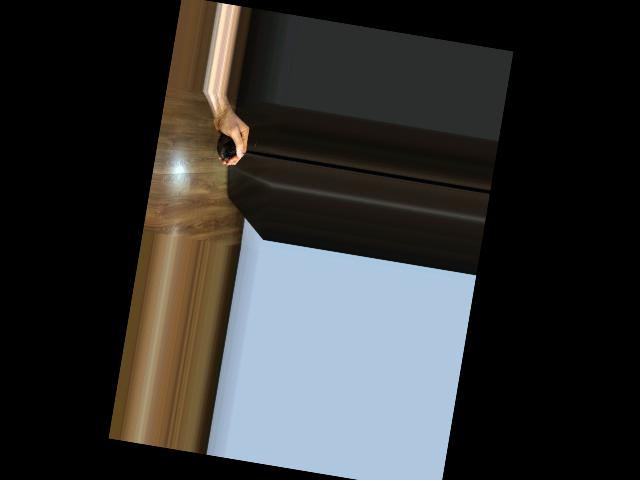beet: (214, 132, 257, 166)
